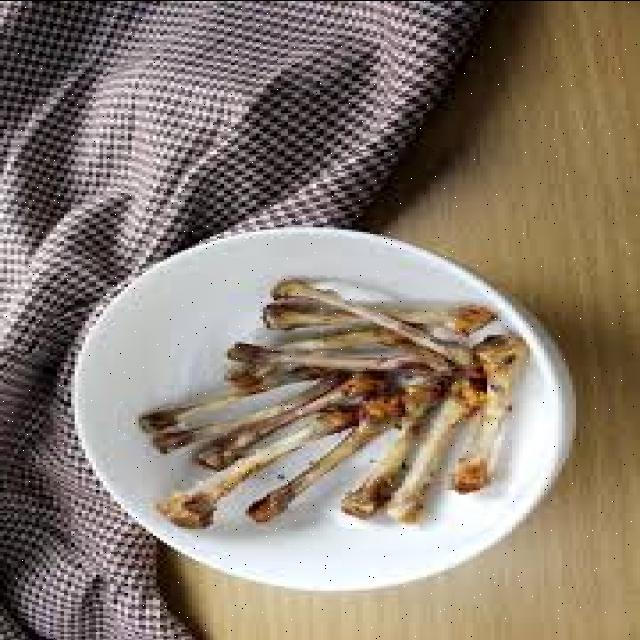Bones: (139, 281, 523, 526)
